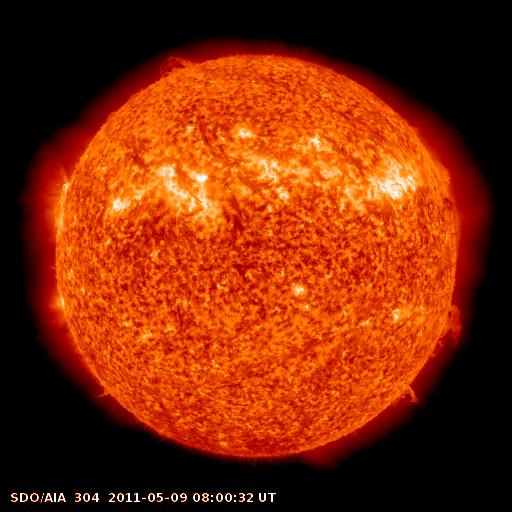prominence: (419, 300, 470, 362), (149, 46, 208, 81), (425, 150, 460, 195), (85, 378, 124, 409), (392, 379, 427, 409), (101, 100, 126, 131)
